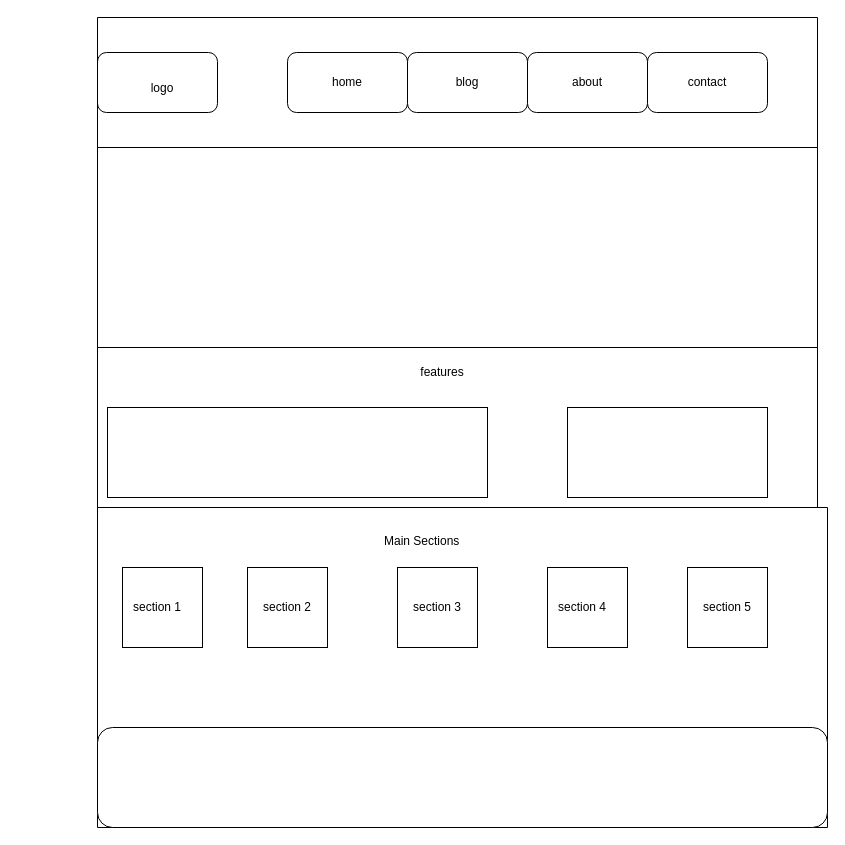
Image size: 845x845. Some labels were removed from this diagram. Each missing label, with the box of its shape:
feature 1: (106, 406, 488, 498)
feature 2: (566, 406, 768, 498)
footer: (96, 726, 828, 828)
slider hero section: (96, 146, 818, 348)
